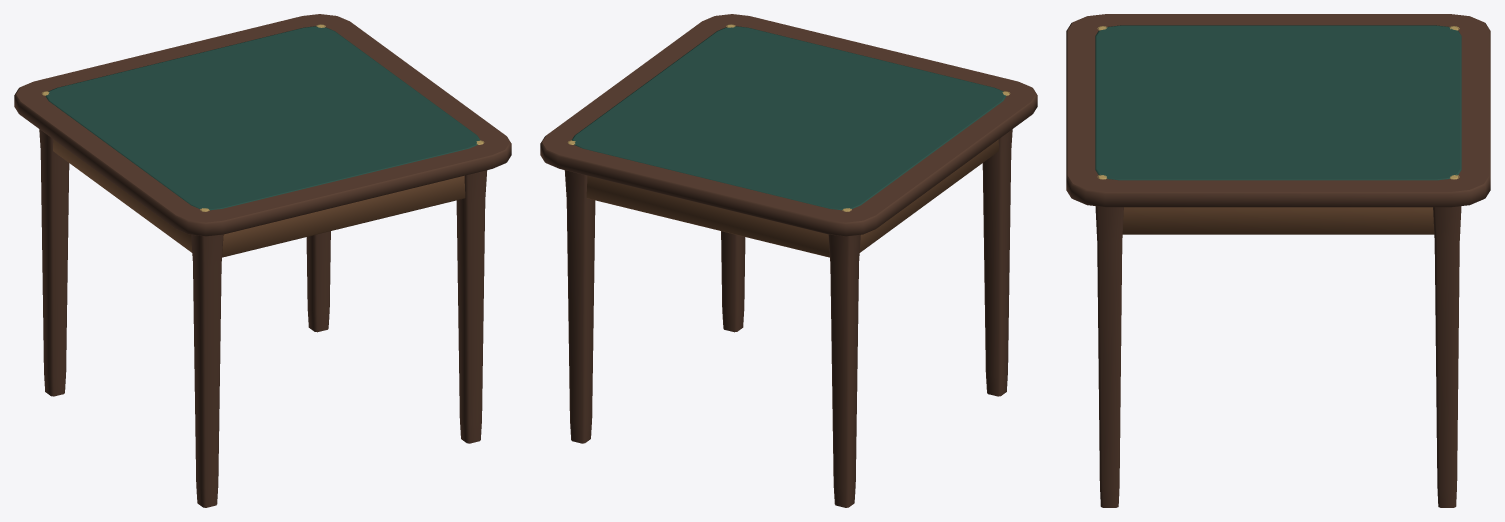
The model's file is rpg-mansion-baize-card-table-01.glb.
3 renders of one model, left to right at view 1: azimuth 30°, elevation 25°; view 2: azimuth 150°, elevation 25°; view 3: azimuth 270°, elevation 25°, orthographic. The views are drawn at different scales.
Parts seen in each view (by area): view 1: rpg-mansion-baize-card-table-01; view 2: rpg-mansion-baize-card-table-01; view 3: rpg-mansion-baize-card-table-01.
Boxes of the visible parts, <box> form: rpg-mansion-baize-card-table-01: <box>14,14,511,507</box>; rpg-mansion-baize-card-table-01: <box>540,14,1037,507</box>; rpg-mansion-baize-card-table-01: <box>1066,14,1490,507</box>.
Size of the model in its own units: 0.88 by 0.756 by 0.88.
